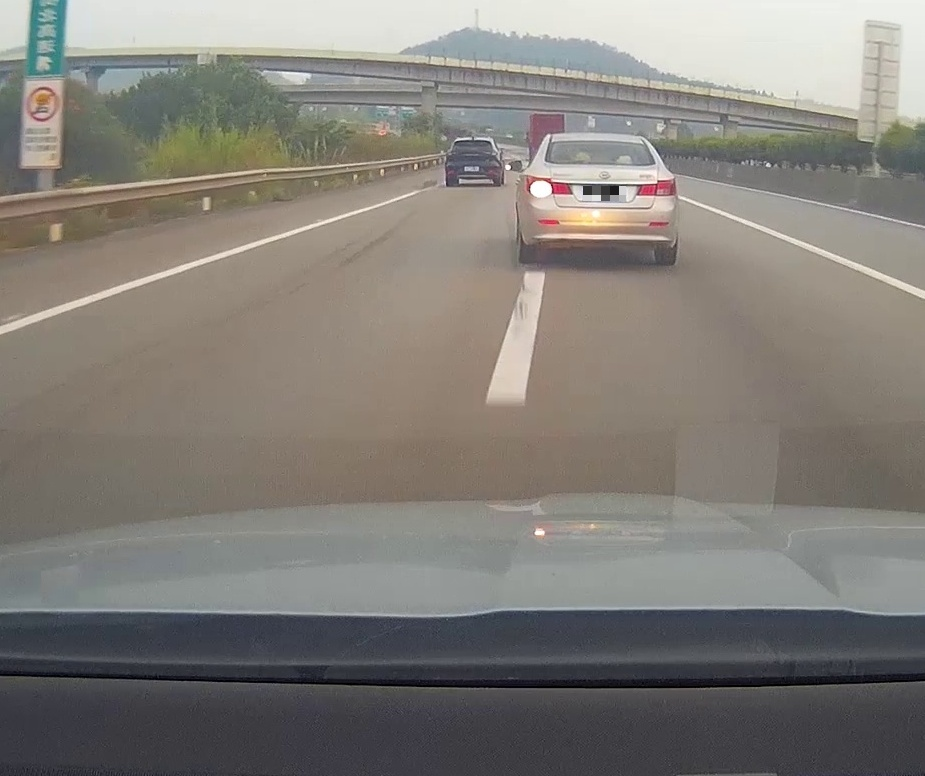L_light: (526, 176, 573, 196), (447, 151, 457, 156)
R_light: (636, 177, 675, 196), (487, 151, 497, 156)
T_light: (593, 141, 613, 145), (468, 140, 477, 143)
day-left: (519, 132, 678, 263)
day-no: (444, 136, 500, 186)
plate_1: (583, 186, 626, 201)
